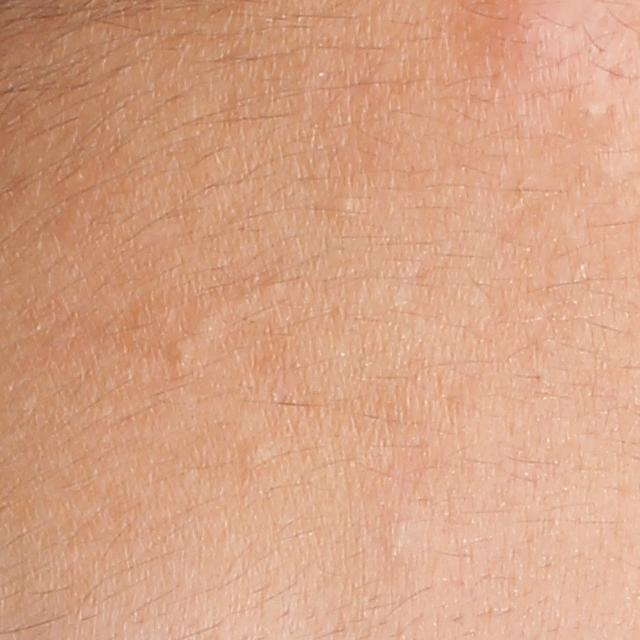comedo: (232, 435, 281, 472), (382, 525, 424, 567), (322, 184, 360, 224), (573, 92, 611, 127), (165, 336, 200, 373)
